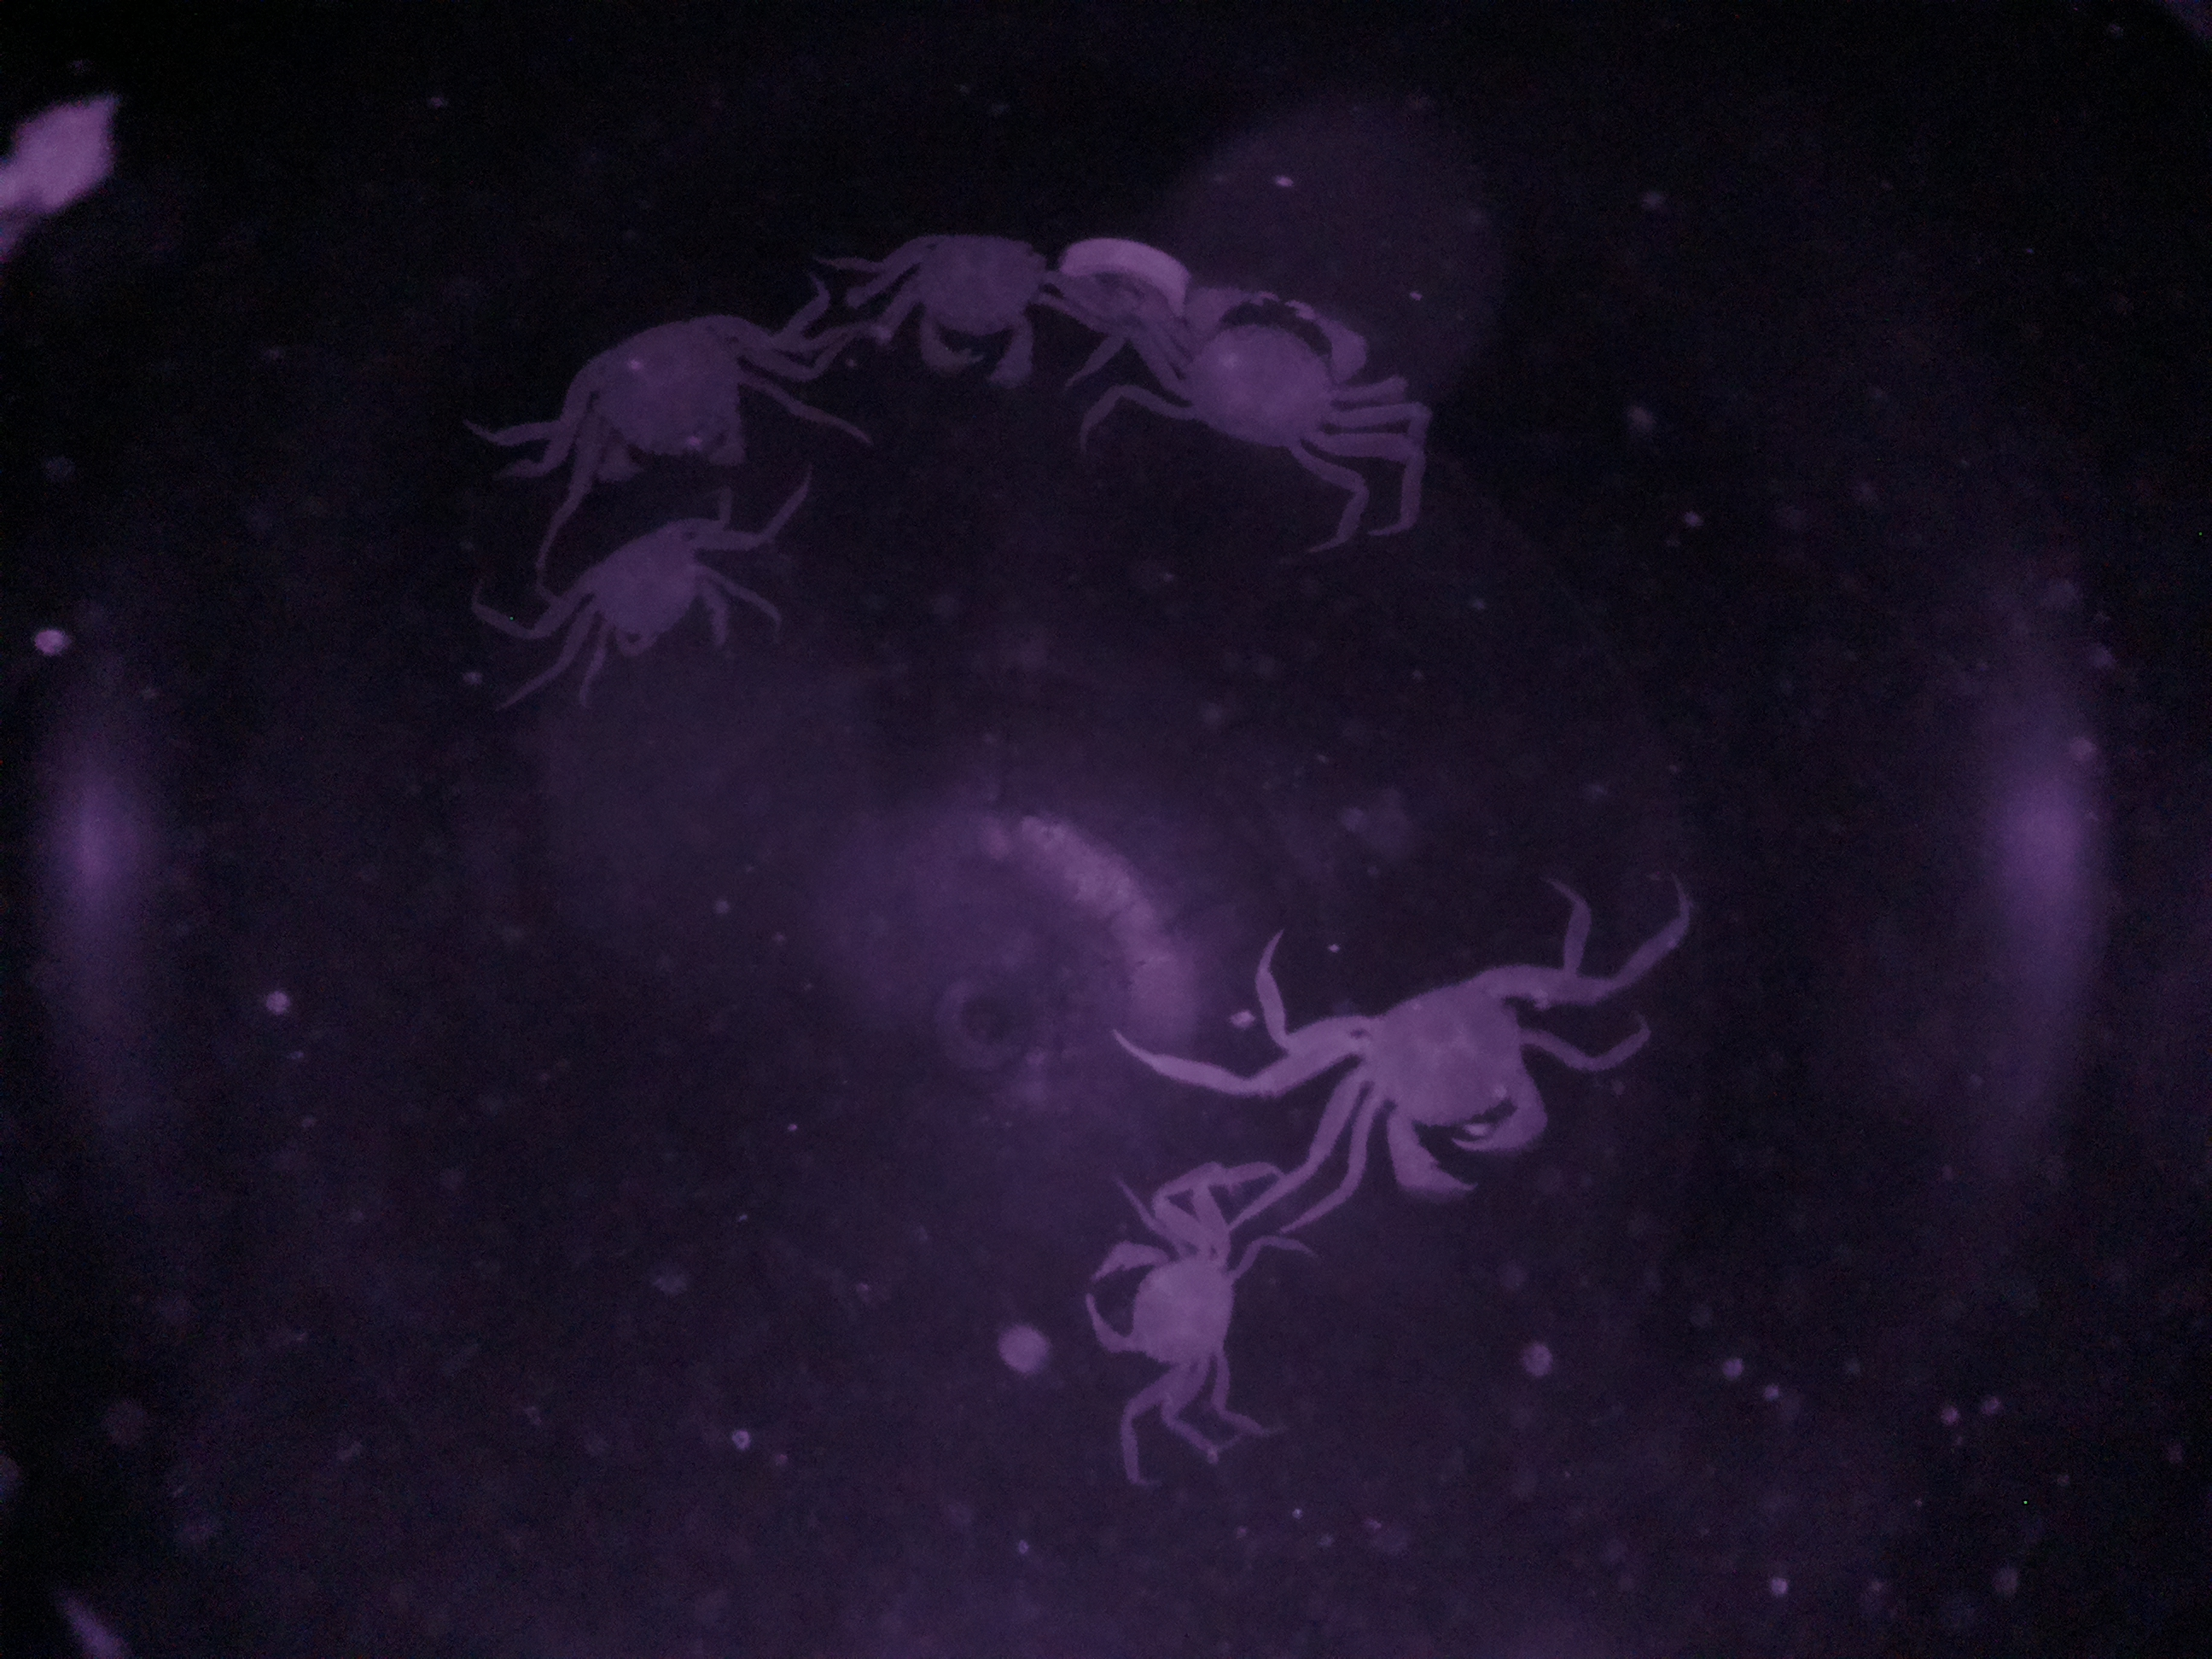Crab: (1312, 941, 1575, 1195), (1134, 272, 1376, 490), (523, 491, 740, 669), (878, 227, 1087, 404), (1068, 1202, 1259, 1396)
